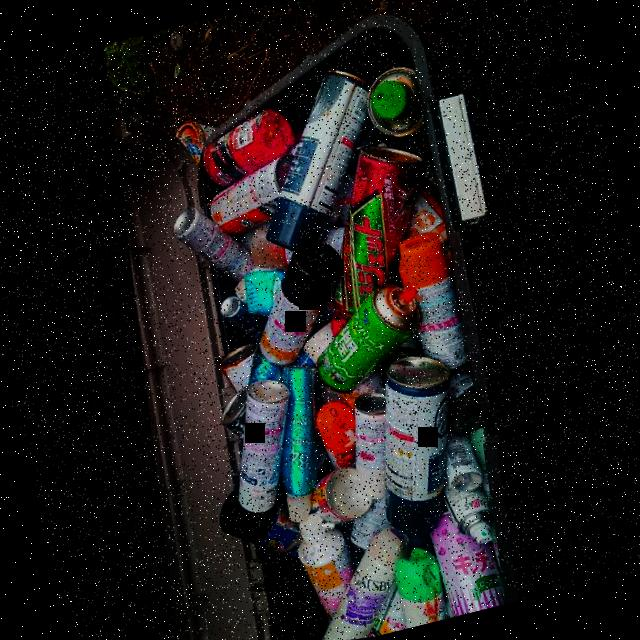chemical_spray_can: (267, 68, 370, 248), (333, 144, 422, 319), (386, 355, 450, 536), (317, 283, 422, 393), (400, 230, 470, 368), (431, 511, 507, 616), (239, 379, 290, 511), (172, 205, 256, 280), (282, 357, 320, 521), (445, 477, 494, 543)
